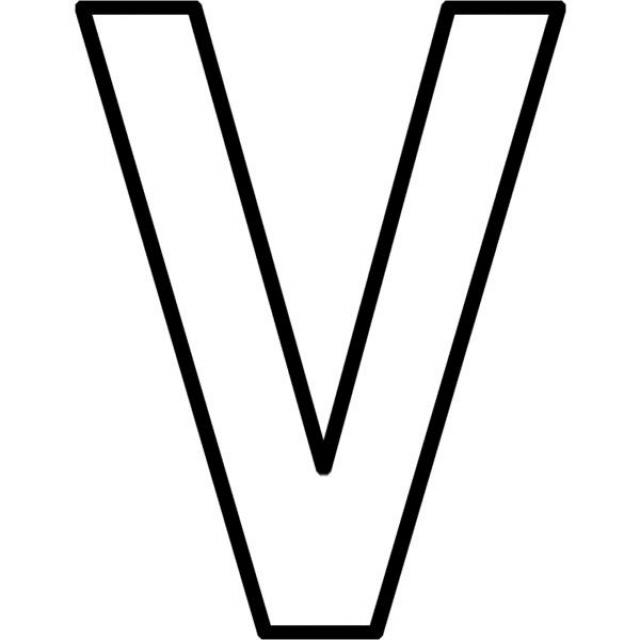V: (43, 1, 607, 640)
